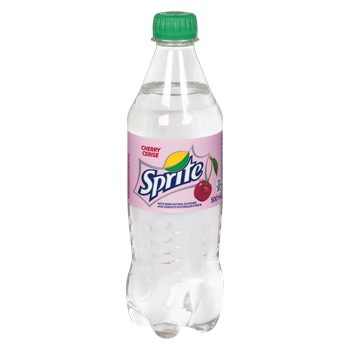sprite: (138, 155, 202, 196), (139, 155, 202, 195)
